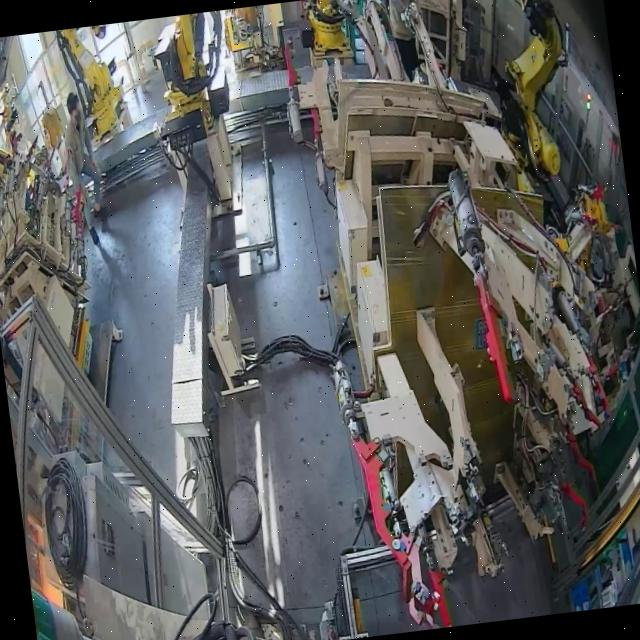Person: (56, 89, 108, 248), (385, 0, 431, 83)
